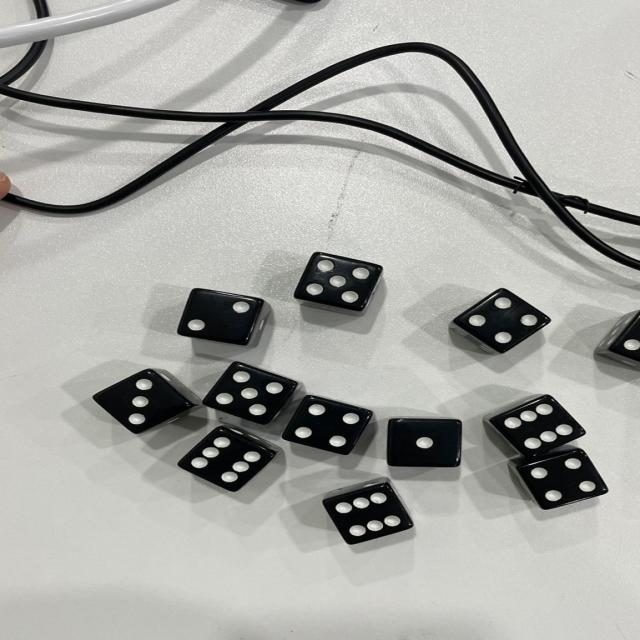DICE1: (388, 423, 473, 465)
DICE2: (171, 287, 277, 347)
DICE3: (95, 374, 182, 431), (611, 310, 640, 371)
DICE4: (511, 453, 616, 511), (449, 294, 545, 352), (300, 397, 370, 450)
DICE5: (206, 362, 292, 420), (296, 252, 375, 308)
DICE6: (479, 393, 585, 455), (182, 428, 272, 490), (312, 488, 413, 538)
